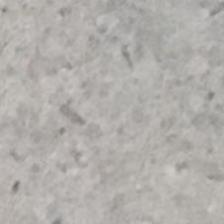Non_Crack: (26, 35, 198, 194)
